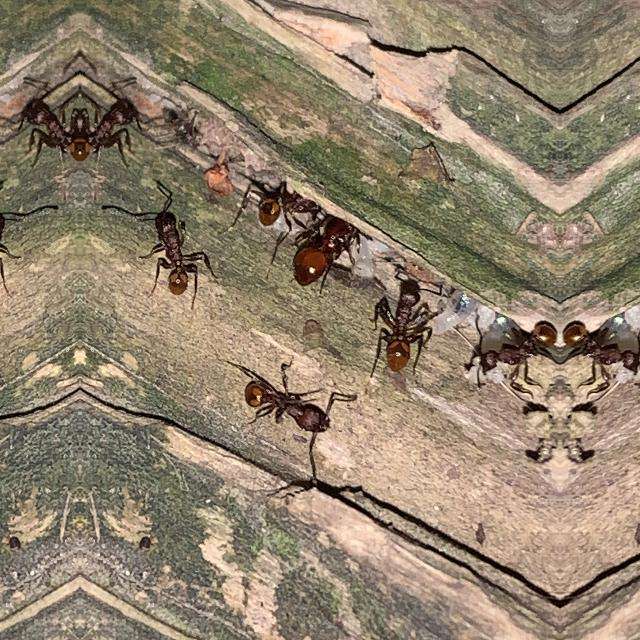Apheanogaster: (233, 358, 344, 466), (463, 306, 559, 406), (371, 266, 437, 388), (560, 306, 640, 406), (228, 158, 318, 244), (142, 195, 210, 308), (288, 204, 370, 296), (80, 86, 144, 180), (16, 86, 80, 180), (0, 194, 18, 306)
